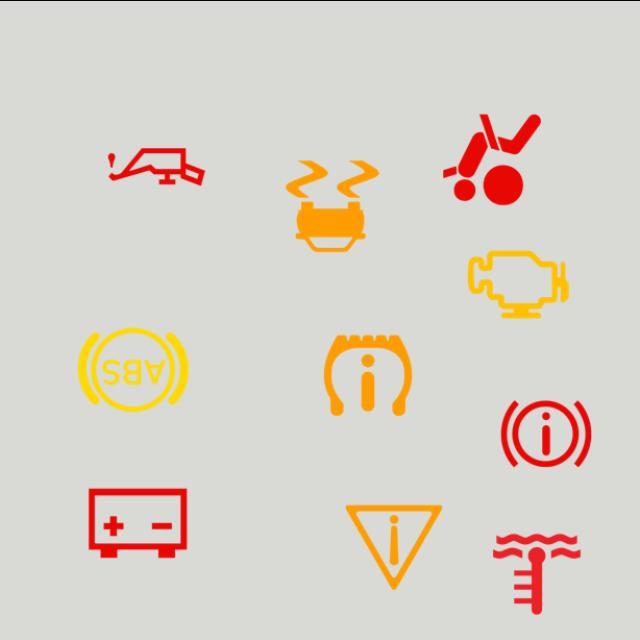Anti Lock Braking System: (73, 308, 194, 429)
Braking System Issue: (486, 372, 606, 493)
Charging System Issue: (77, 462, 198, 582)
Check Engine: (458, 223, 578, 344)
Electronic Stability Problem -ESP-: (272, 145, 393, 266)
Engine Overheating Warning Light: (477, 513, 598, 634)
Low Engine Oil Warning Light: (96, 105, 217, 226)
Low Tire Pressure Warning Light: (307, 314, 428, 434)
Master warning light: (334, 486, 454, 606)
SRS-Airbag: (432, 98, 552, 219)
